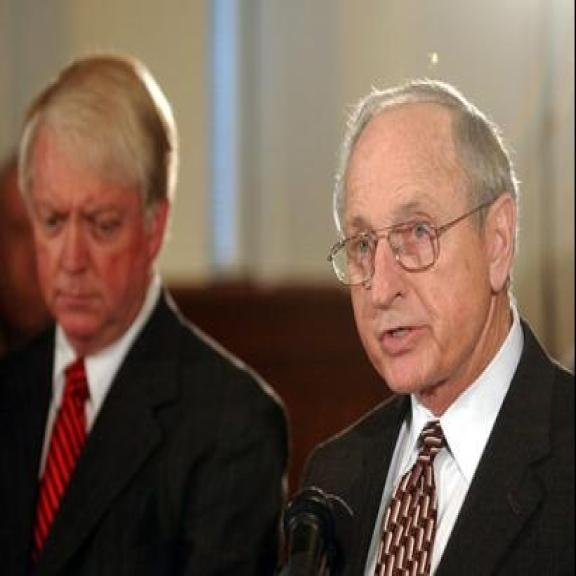face: (342, 130, 514, 400), (33, 138, 174, 341)
